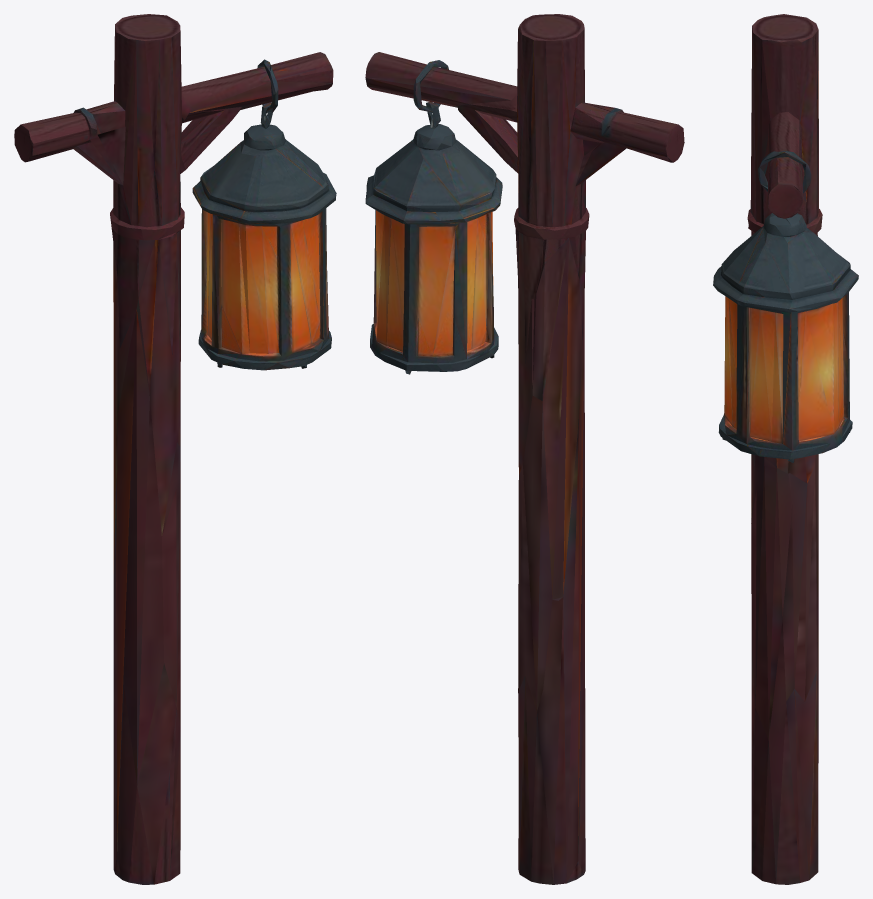
The model's file is lantern.glb.
3 views of the same model, side by side, from view 1: azimuth 30°, elevation 25°; view 2: azimuth 150°, elevation 25°; view 3: azimuth 270°, elevation 25° (orthographic).
Visible parts, largest first — view 1: output_unwrapped; view 2: output_unwrapped; view 3: output_unwrapped.
Part boxes in pixels (<box>): output_unwrapped: <box>14,14,336,884</box>; output_unwrapped: <box>365,14,684,884</box>; output_unwrapped: <box>713,14,858,884</box>.
Bounding box in the file's own units: 0.7201 × 1.9 × 0.2979.
Materials: 1 (1 with a texture image).
